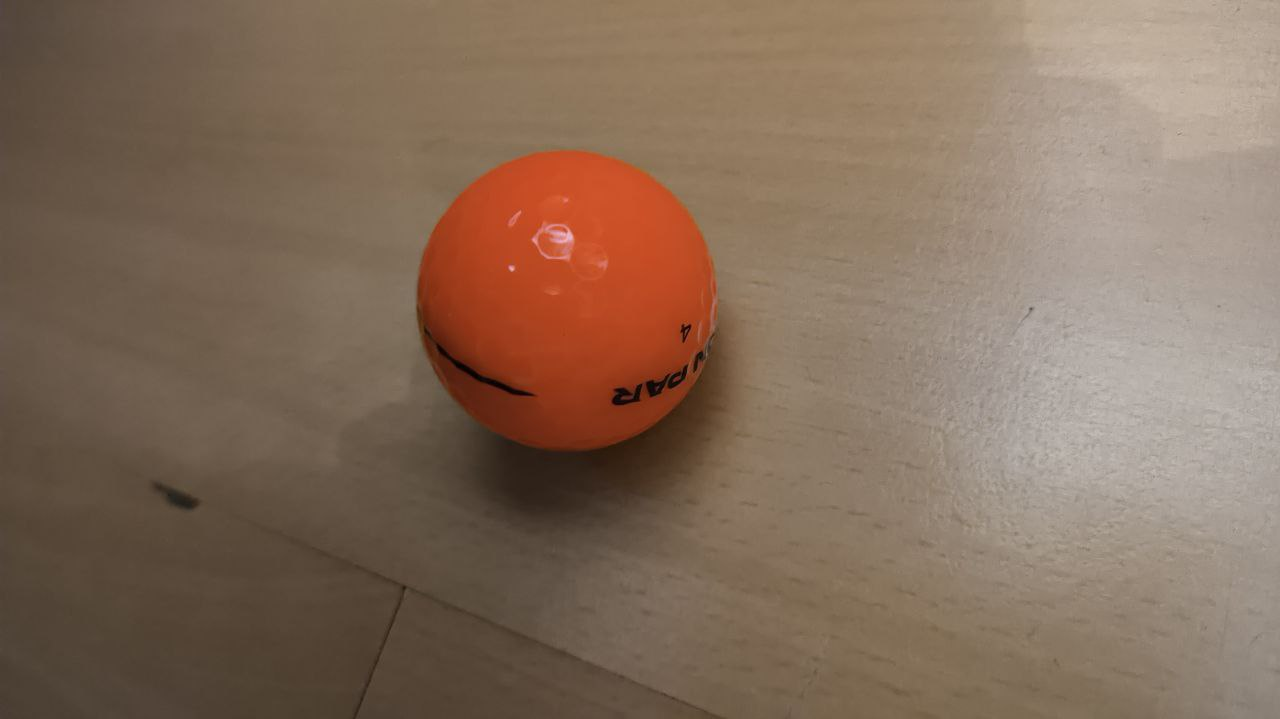orange_ball: (416, 150, 718, 451)
